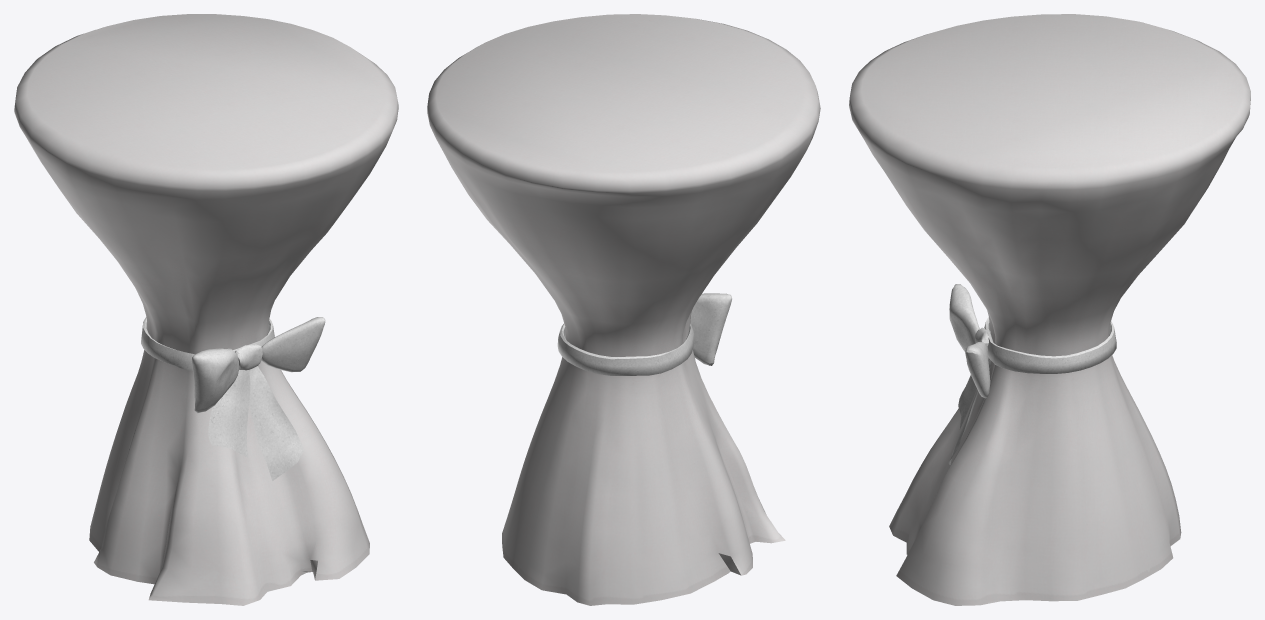
Rendered from EventTable05Cloth02.FBX.
3 views of the same model, side by side, from view 1: azimuth 30°, elevation 25°; view 2: azimuth 150°, elevation 25°; view 3: azimuth 270°, elevation 25° (orthographic). The views are drawn at different scales.
Parts seen in each view (by area): view 1: EventTable05Cloth02; view 2: EventTable05Cloth02; view 3: EventTable05Cloth02.
Boxes of the visible parts, x1,y1,x2,y2 form: EventTable05Cloth02: (14,14,398,605); EventTable05Cloth02: (427,14,820,605); EventTable05Cloth02: (849,14,1250,605).
Size of what is drawn, in the model's own units: 0.9353 by 1.21 by 0.9609.
